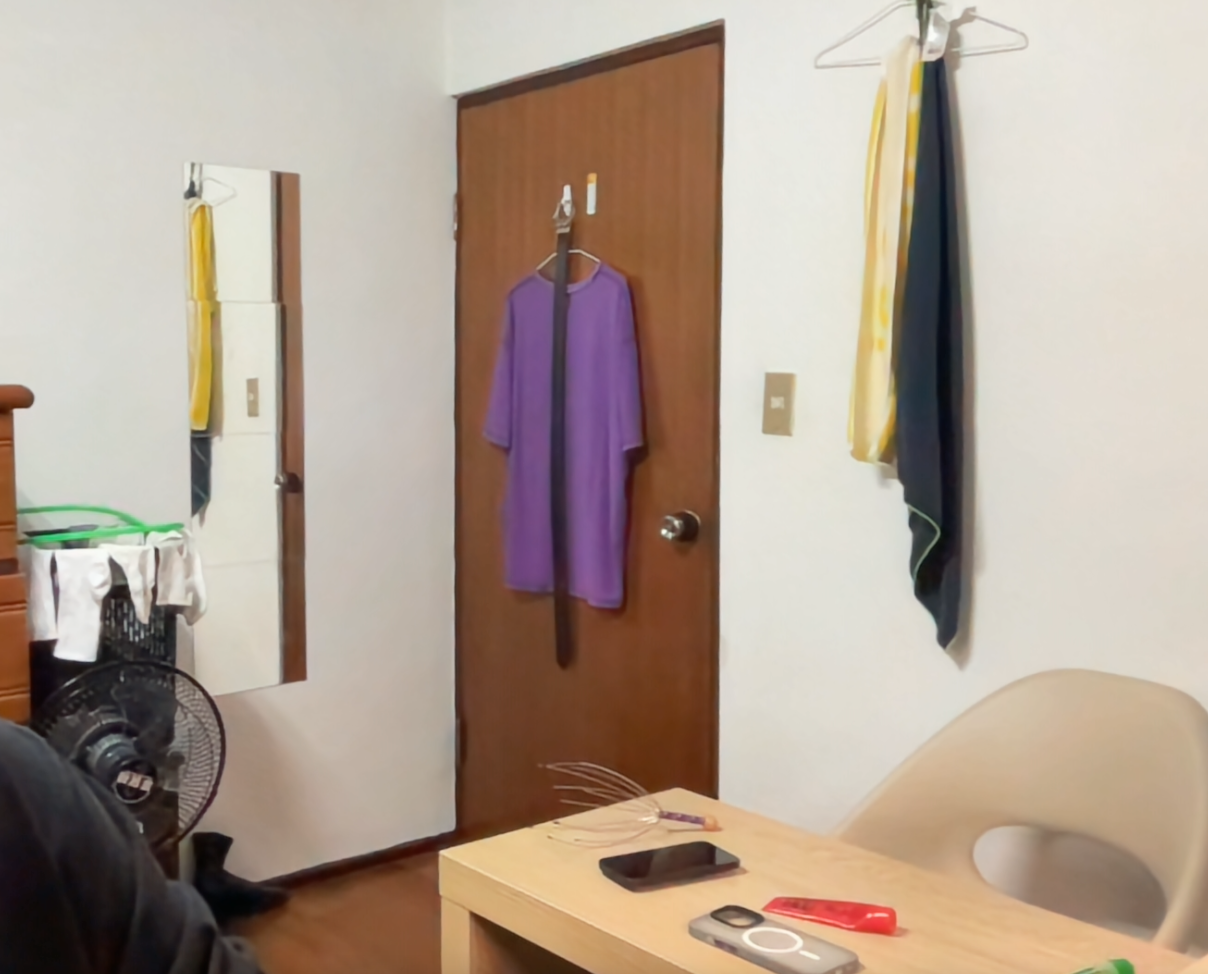Door Close: (434, 68, 733, 834)
